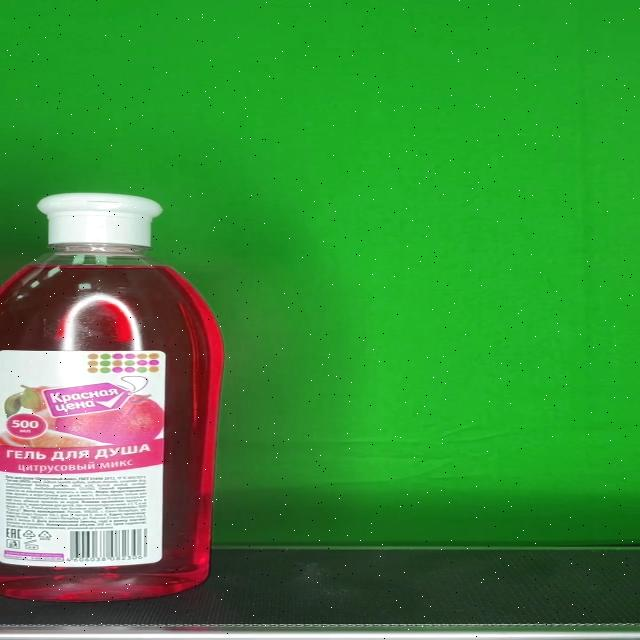Bottle: (0, 192, 226, 602)
Cap: (37, 193, 162, 246)
